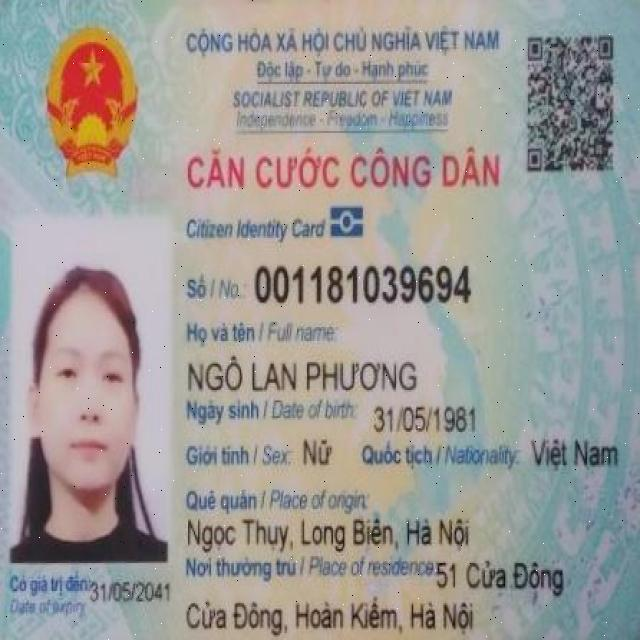current_place: (187, 598, 476, 638), (437, 558, 565, 599)
dob: (375, 401, 479, 435)
expire_date: (91, 580, 173, 602)
gender: (303, 434, 335, 468)
id: (252, 259, 473, 306)
name: (184, 352, 422, 393)
nationality: (532, 436, 620, 471)
origin_place: (184, 515, 473, 551)
